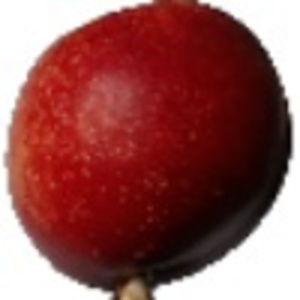nectarina: (3, 1, 292, 300)
